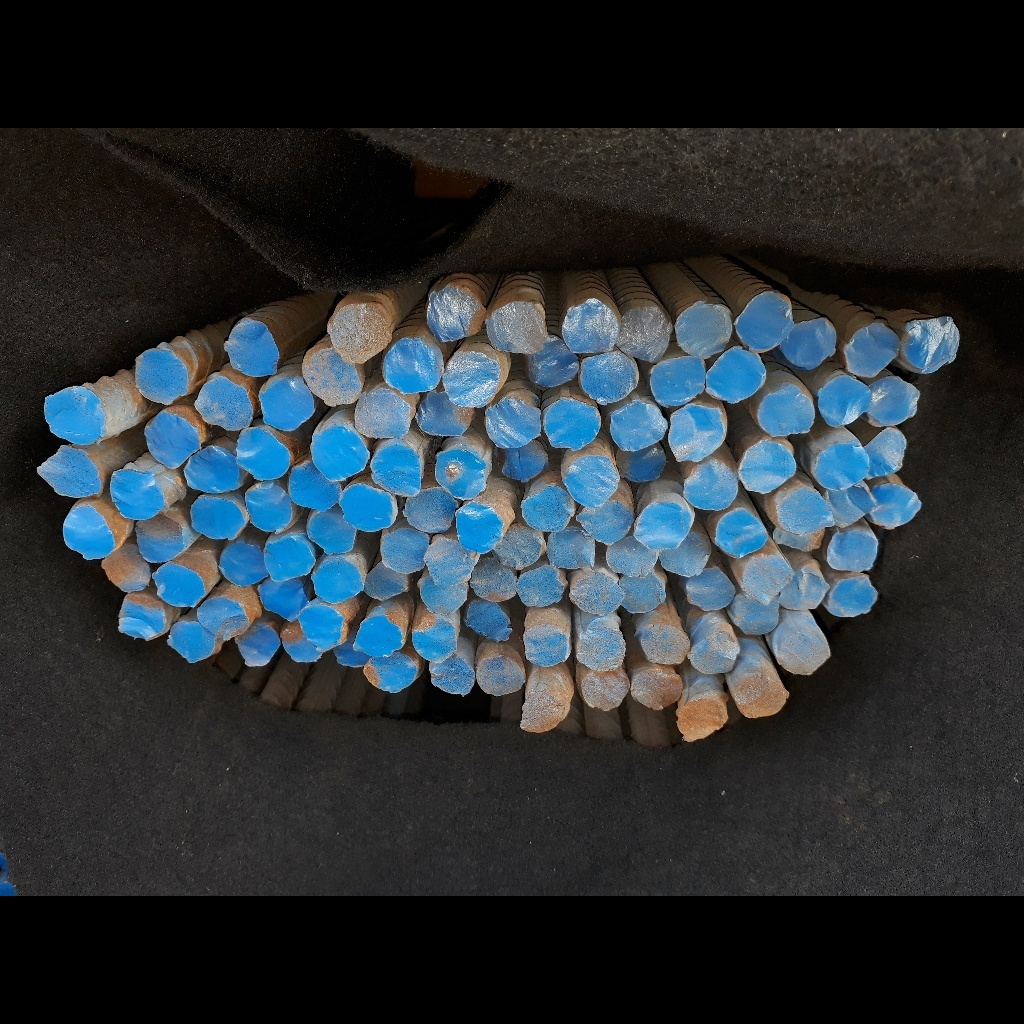dipstick: (326, 306, 390, 366), (34, 444, 102, 498), (43, 385, 103, 446), (705, 346, 766, 406), (303, 347, 362, 409), (442, 346, 502, 406), (664, 403, 725, 462), (735, 289, 792, 351), (608, 398, 672, 452), (310, 425, 370, 482), (903, 314, 959, 375), (192, 378, 255, 432), (381, 337, 440, 394), (676, 301, 733, 359), (484, 298, 544, 353), (224, 317, 276, 380), (425, 287, 483, 343), (134, 348, 188, 408), (563, 297, 618, 355), (236, 427, 292, 483), (844, 323, 899, 380), (144, 413, 201, 468), (614, 306, 670, 361), (739, 441, 798, 493), (259, 377, 314, 432), (62, 504, 116, 560), (544, 398, 600, 451), (290, 459, 342, 516), (817, 375, 873, 427), (563, 455, 619, 507), (486, 395, 543, 446), (681, 460, 738, 511), (776, 486, 834, 536), (339, 484, 398, 533), (436, 444, 487, 500), (110, 469, 166, 520), (581, 352, 638, 402), (369, 444, 421, 498), (651, 355, 706, 406), (422, 538, 478, 588), (491, 520, 548, 569), (184, 444, 242, 492), (635, 501, 693, 549), (189, 496, 249, 542), (525, 336, 578, 388), (783, 319, 836, 370), (868, 377, 921, 428), (414, 391, 474, 436), (244, 481, 293, 536), (521, 484, 577, 532), (149, 563, 207, 609), (761, 385, 814, 435), (455, 501, 505, 554), (355, 392, 410, 439), (743, 555, 793, 606), (815, 443, 868, 491), (714, 510, 768, 557), (577, 501, 634, 545), (134, 511, 184, 561), (869, 480, 921, 528), (402, 488, 455, 535), (351, 613, 406, 658), (380, 524, 429, 574), (425, 536, 474, 586), (661, 531, 712, 579), (737, 672, 789, 719), (728, 591, 781, 637), (684, 565, 737, 611), (860, 426, 905, 480), (606, 533, 661, 577), (101, 543, 151, 591), (629, 666, 681, 712), (264, 535, 316, 581), (823, 482, 877, 526), (781, 630, 831, 677), (296, 604, 347, 650), (217, 539, 268, 585), (578, 668, 630, 713), (570, 575, 625, 617), (547, 525, 596, 572), (411, 613, 458, 662), (117, 594, 167, 640), (575, 628, 627, 672), (677, 695, 725, 742), (429, 650, 476, 698), (639, 620, 689, 665), (827, 576, 877, 620), (364, 655, 419, 695), (167, 619, 217, 663), (308, 511, 359, 554), (615, 441, 667, 483), (310, 559, 362, 601), (196, 598, 249, 639), (515, 565, 566, 607), (467, 558, 518, 600), (473, 654, 525, 695), (418, 573, 470, 613), (621, 569, 666, 615), (780, 569, 829, 611), (259, 578, 309, 619), (501, 440, 548, 483), (518, 689, 564, 732), (467, 598, 513, 641), (689, 638, 741, 676), (233, 625, 281, 666), (829, 532, 877, 572), (364, 559, 412, 599), (523, 627, 570, 667), (331, 631, 370, 669), (780, 532, 826, 556)
